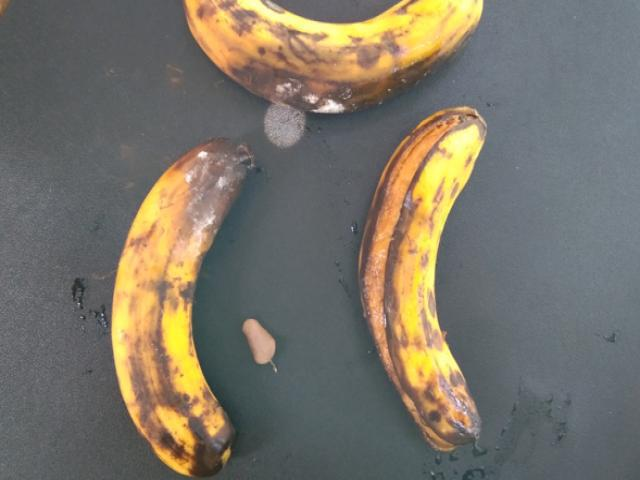rotten: (345, 87, 515, 464), (102, 130, 275, 479), (167, 0, 495, 120)
